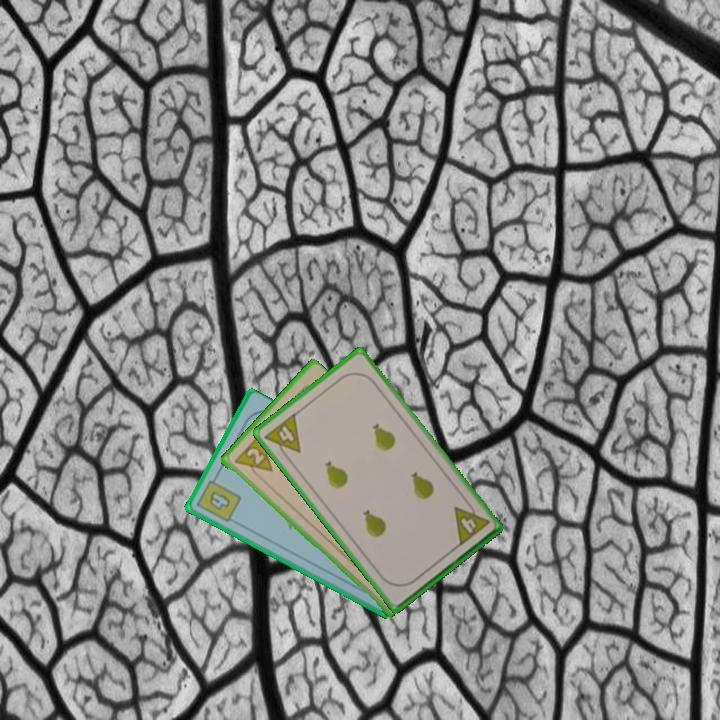2p: (230, 431, 275, 483)
4b: (193, 472, 244, 526)
4p: (261, 409, 304, 464), (450, 496, 492, 549)
